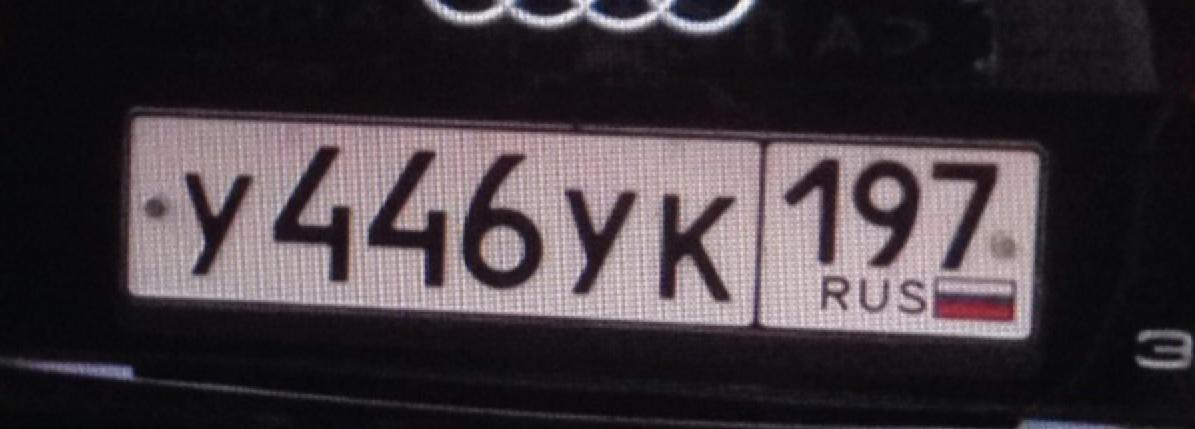license-plateSW: (108, 108, 1038, 334)
